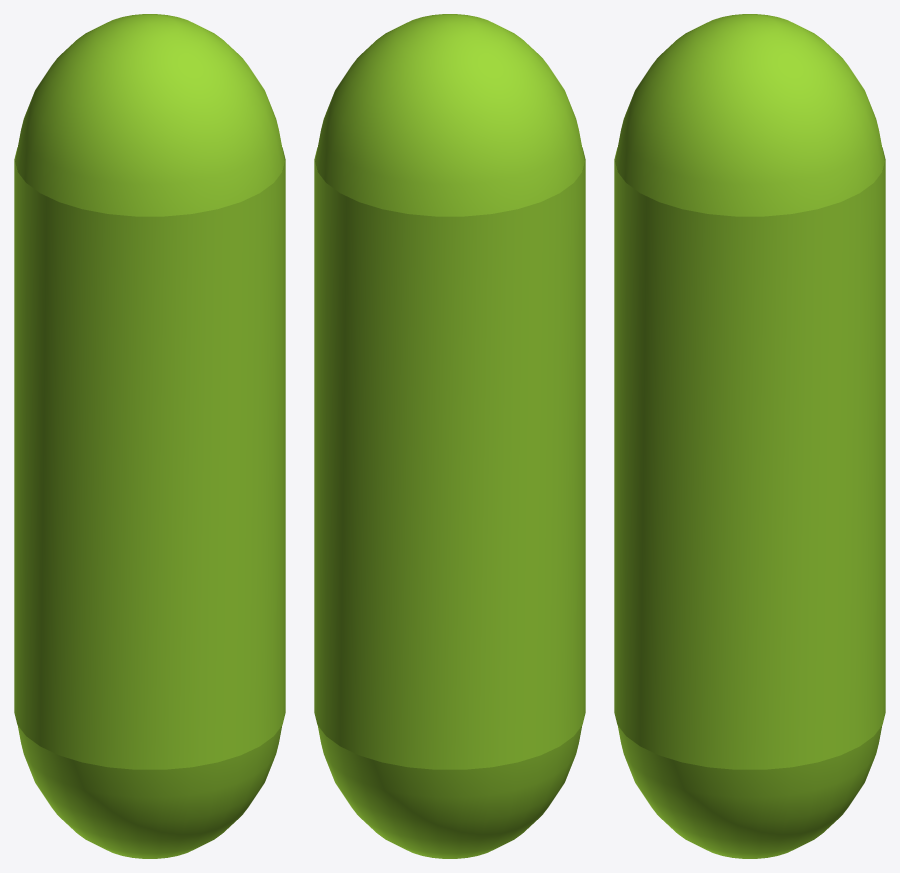
File: droid_hand.obj
The picture shows the model from 3 angles, left to right: view 1: azimuth 30°, elevation 25°; view 2: azimuth 150°, elevation 25°; view 3: azimuth 270°, elevation 25°; orthographic projection.
Visible parts, largest first — view 1: hand_r; view 2: hand_r; view 3: hand_r.
Boxes of the visible parts, box(x1,y1,x2,y2) form: hand_r: box(14, 14, 285, 858); hand_r: box(314, 14, 585, 858); hand_r: box(614, 14, 885, 858).
Bounding box in the file's own units: 0.1989 × 0.6712 × 0.2.
